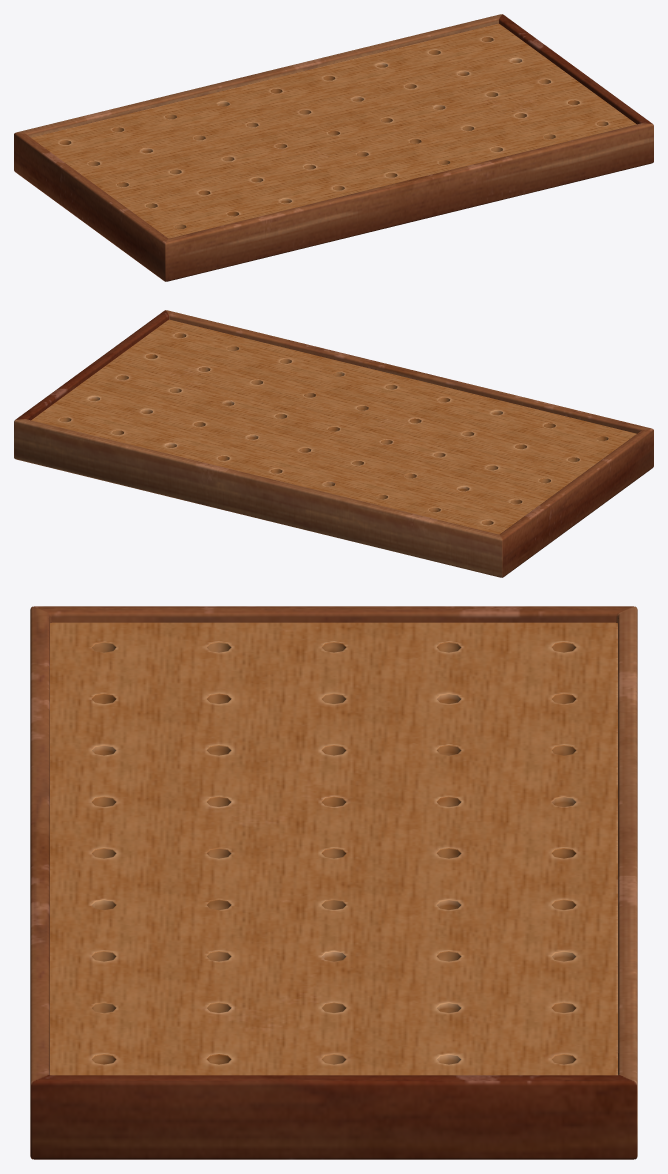
The model's file is StallProp_E.fbx.
3 views of the same model, one above another, from view 1: azimuth 30°, elevation 25°; view 2: azimuth 150°, elevation 25°; view 3: azimuth 270°, elevation 25° (orthographic). The views are drawn at different scales.
Parts seen in each view (by area): view 1: StallProp_E; view 2: StallProp_E; view 3: StallProp_E.
Part boxes in pixels (x1=…): StallProp_E: x1=14, y1=14, x2=653, y2=281; StallProp_E: x1=14, y1=310, x2=653, y2=577; StallProp_E: x1=30, y1=606, x2=637, y2=1159.
Size of the model in its own units: 0.9643 by 0.0737 by 0.5184.
